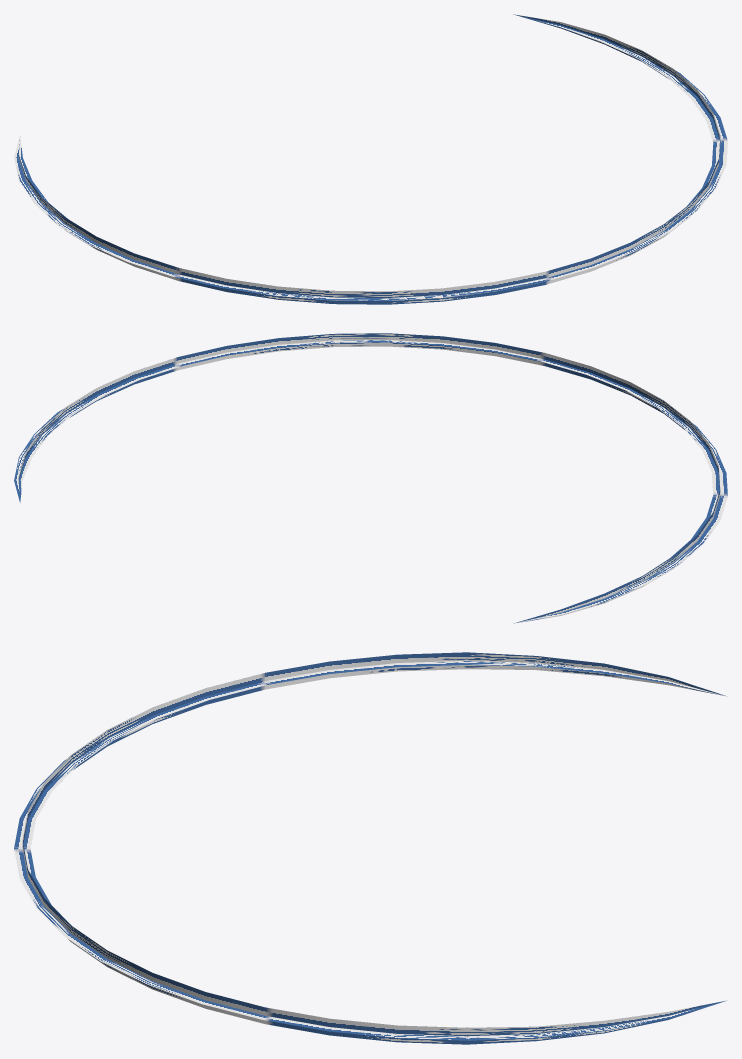
The model's file is Rui_Dome1.fbx.
3 renders of one model, top to bottom at view 1: azimuth 30°, elevation 25°; view 2: azimuth 150°, elevation 25°; view 3: azimuth 270°, elevation 25°, orthographic. The views are drawn at different scales.
Visible parts, largest first — view 1: SM_e_Plc_P1007_Dome001; view 2: SM_e_Plc_P1007_Dome001; view 3: SM_e_Plc_P1007_Dome001.
Part boxes in pixels (x1,y1,x2,y2): SM_e_Plc_P1007_Dome001: (14,14,727,304); SM_e_Plc_P1007_Dome001: (14,333,727,623); SM_e_Plc_P1007_Dome001: (14,652,726,1044).
Bounding box in the file's own units: 488 × 9.97 × 383.
